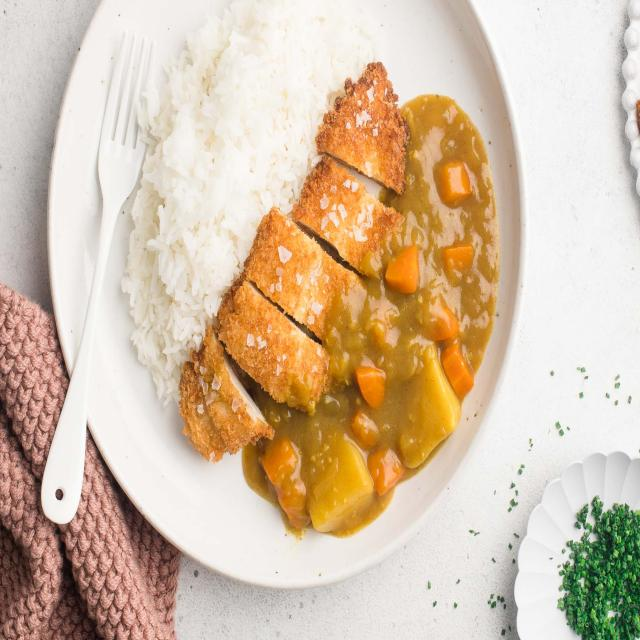Carbohydrate: (125, 6, 377, 412)
Curry: (66, 0, 534, 604)
Protein: (180, 61, 404, 464)
Vegetable: (244, 361, 459, 536), (388, 155, 483, 390)
